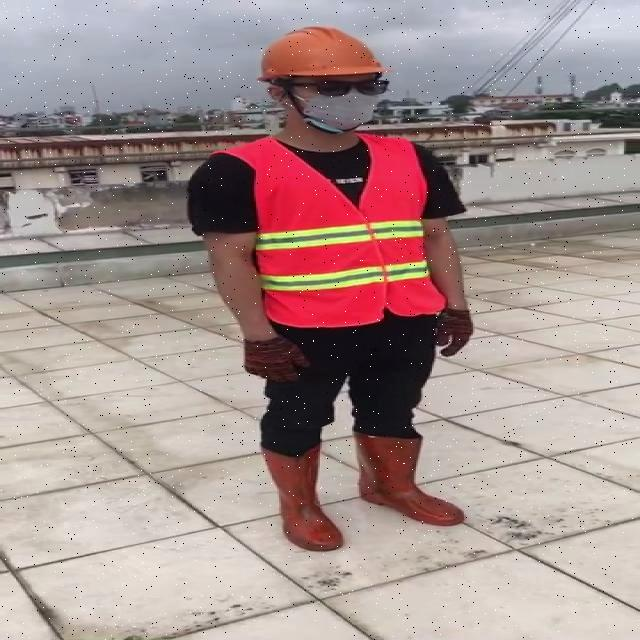Hard_hat: (247, 19, 392, 92)
Vest: (251, 128, 436, 329)
